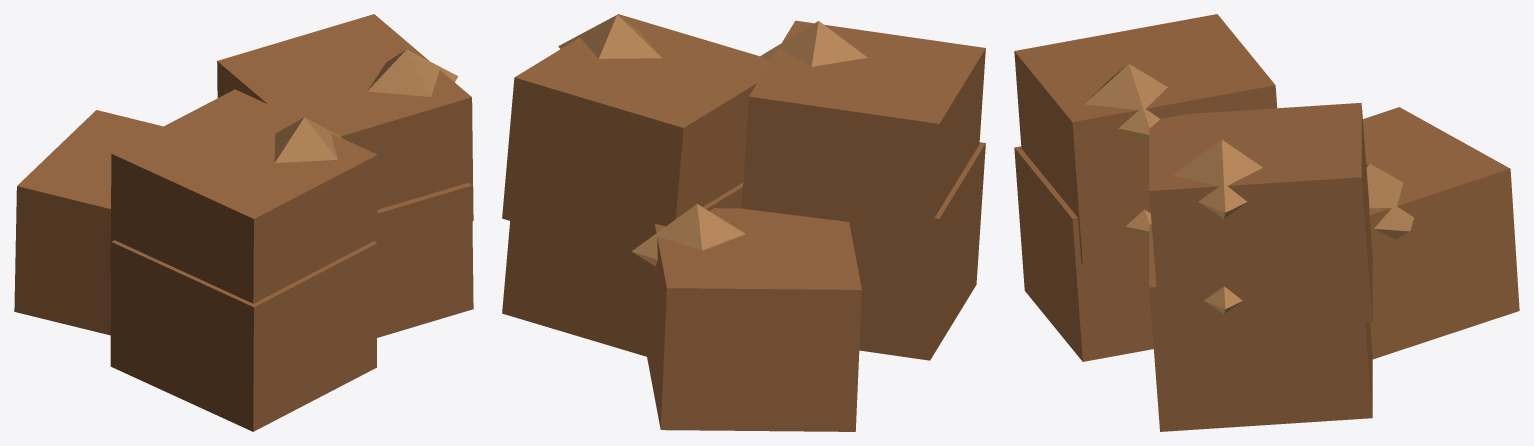
The model's file is pile-soil-5.gltf.
3 views of the same model, side by side, from view 1: azimuth 30°, elevation 25°; view 2: azimuth 150°, elevation 25°; view 3: azimuth 270°, elevation 25° (orthographic). The views are drawn at different scales.
Visible parts, largest first — view 1: pile-soil-5; view 2: pile-soil-5; view 3: pile-soil-5.
Boxes of the visible parts, x1,y1,x2,y2 form: pile-soil-5: (14, 14, 473, 431); pile-soil-5: (502, 14, 985, 431); pile-soil-5: (1014, 14, 1519, 431).
Bounding box in the file's own units: 0.6436 × 0.4374 × 0.7118.
